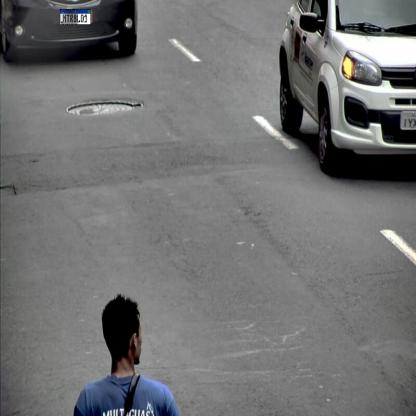PlacaM: (60, 9, 91, 25)
